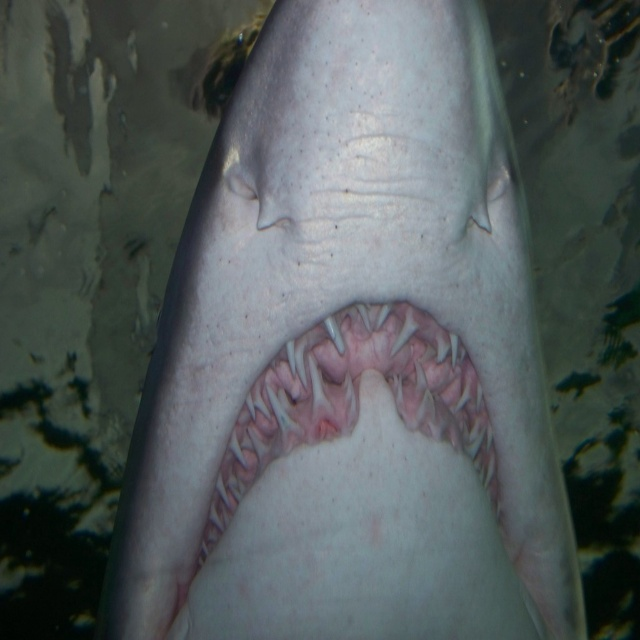Shark: (95, 0, 588, 635)
